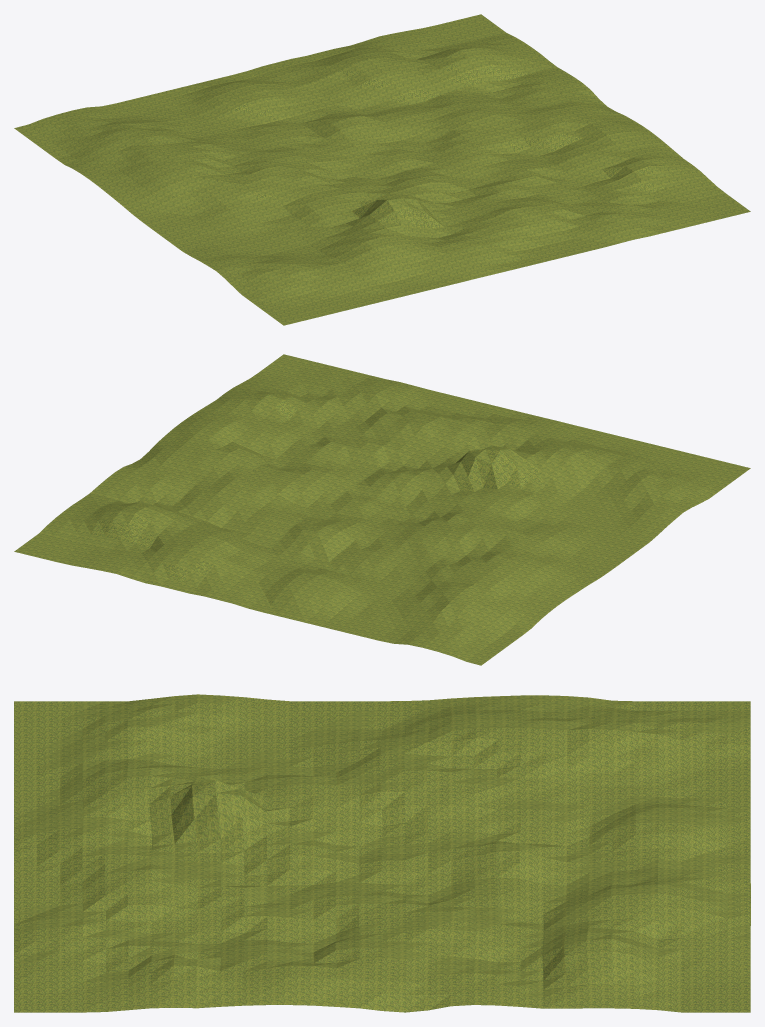
Rendered from grassPlane.glb.
3 views of the same model, one above another, from view 1: azimuth 30°, elevation 25°; view 2: azimuth 150°, elevation 25°; view 3: azimuth 270°, elevation 25° (orthographic). The views are drawn at different scales.
Visible parts, largest first — view 1: Plane; view 2: Plane; view 3: Plane.
Part boxes in pixels (x1,y1,x2,y2): Plane: (14, 14, 750, 325); Plane: (14, 354, 750, 665); Plane: (14, 694, 750, 1012).
Size of the model in its own units: 36.9 by 2.16 by 36.82.
1 material, 1 textured.
